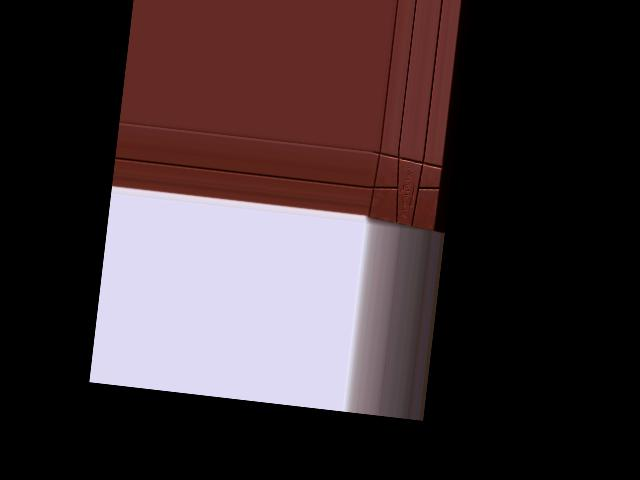chocolate: (364, 147, 447, 233)
